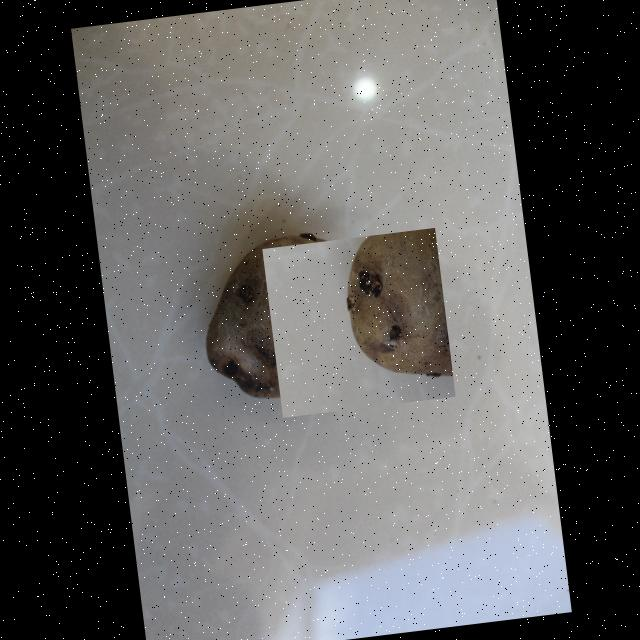Diseased-fungal potato: (261, 228, 454, 418)
